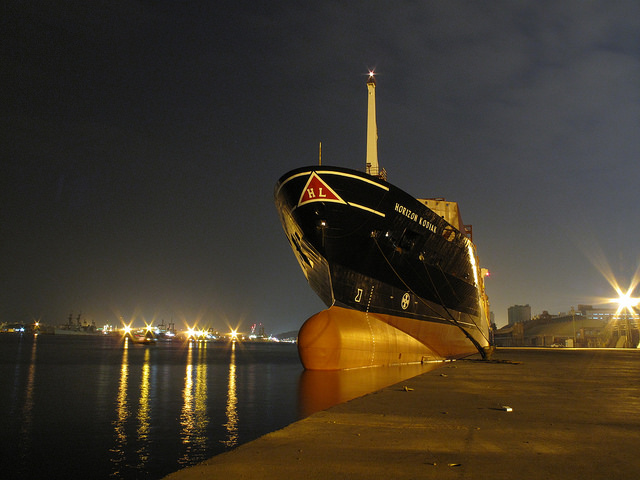container_ship: (271, 66, 491, 366)
